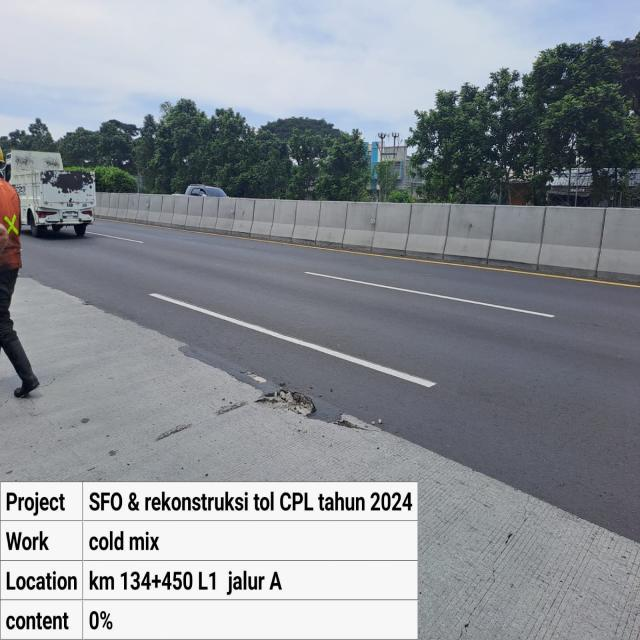Buraco: (252, 381, 320, 419), (328, 412, 385, 434), (153, 422, 195, 443), (212, 398, 251, 418)
